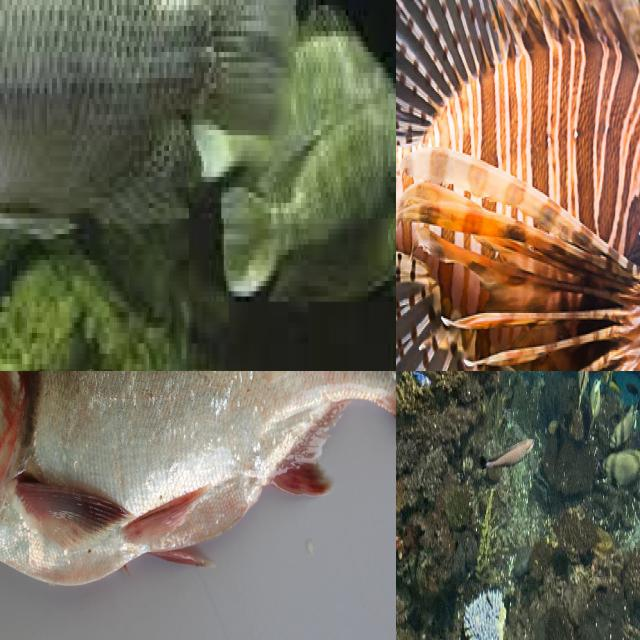fish: (0, 0, 396, 371), (0, 371, 396, 625), (396, 0, 640, 371)
